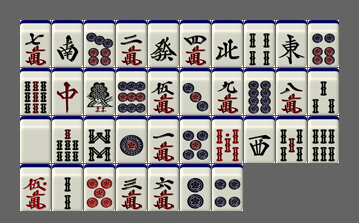0m: (20, 164, 51, 211)
0p: (84, 164, 115, 211)
0s: (212, 116, 243, 163)
1m: (148, 116, 179, 163)
1p: (116, 116, 147, 163)
1s: (84, 68, 115, 115)
1z: (276, 20, 307, 67)
2m: (116, 20, 147, 67)
2p: (180, 164, 211, 211)
2s: (52, 164, 83, 211)
2z: (52, 20, 83, 67)
3m: (116, 164, 147, 211)
3p: (180, 68, 211, 115)
3s: (308, 68, 339, 115)
3z: (244, 116, 275, 163)
4m: (180, 20, 211, 67)
4p: (212, 164, 243, 211)
4s: (244, 20, 275, 67)
4z: (212, 20, 243, 67)
5m: (148, 68, 179, 115)
5p: (180, 116, 211, 163)
5s: (276, 116, 307, 163)
5z: (20, 116, 51, 163)
6m: (148, 164, 179, 211)
6p: (308, 20, 339, 67)
6s: (308, 116, 339, 163)
6z: (148, 20, 179, 67)
7m: (20, 20, 51, 67)
7p: (84, 20, 115, 67)
7s: (52, 116, 83, 163)
7z: (52, 68, 83, 115)
8m: (276, 68, 307, 115)
8p: (244, 68, 275, 115)
8s: (84, 116, 115, 163)
9m: (212, 68, 243, 115)
9p: (116, 68, 147, 115)
9s: (20, 68, 51, 115)
